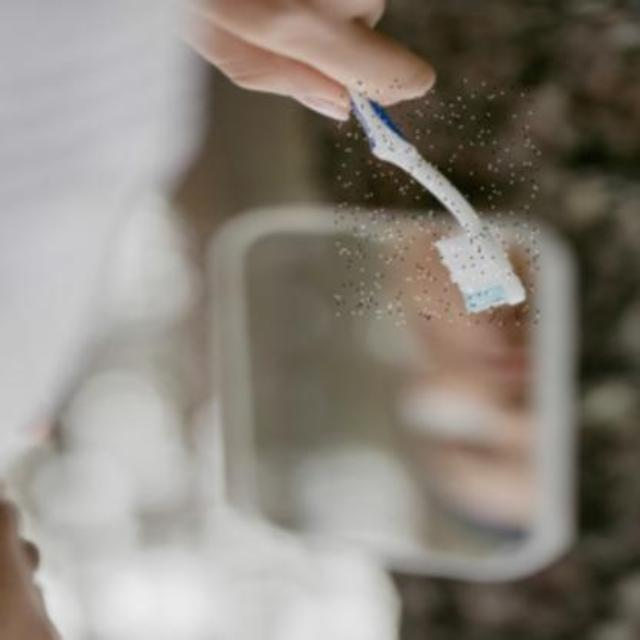toothbrush: (336, 80, 540, 324)
